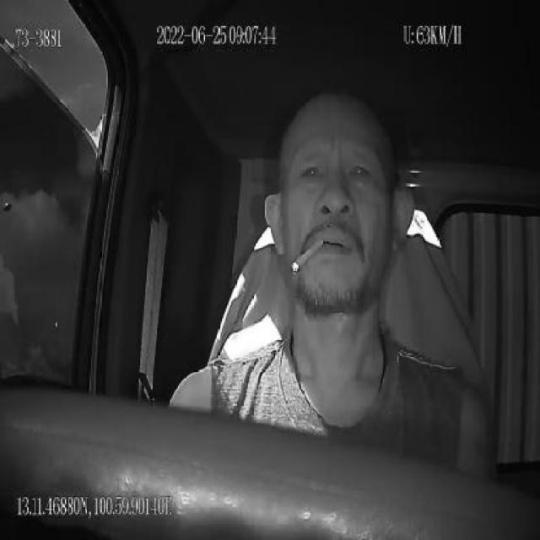smoking: (290, 237, 324, 274)
